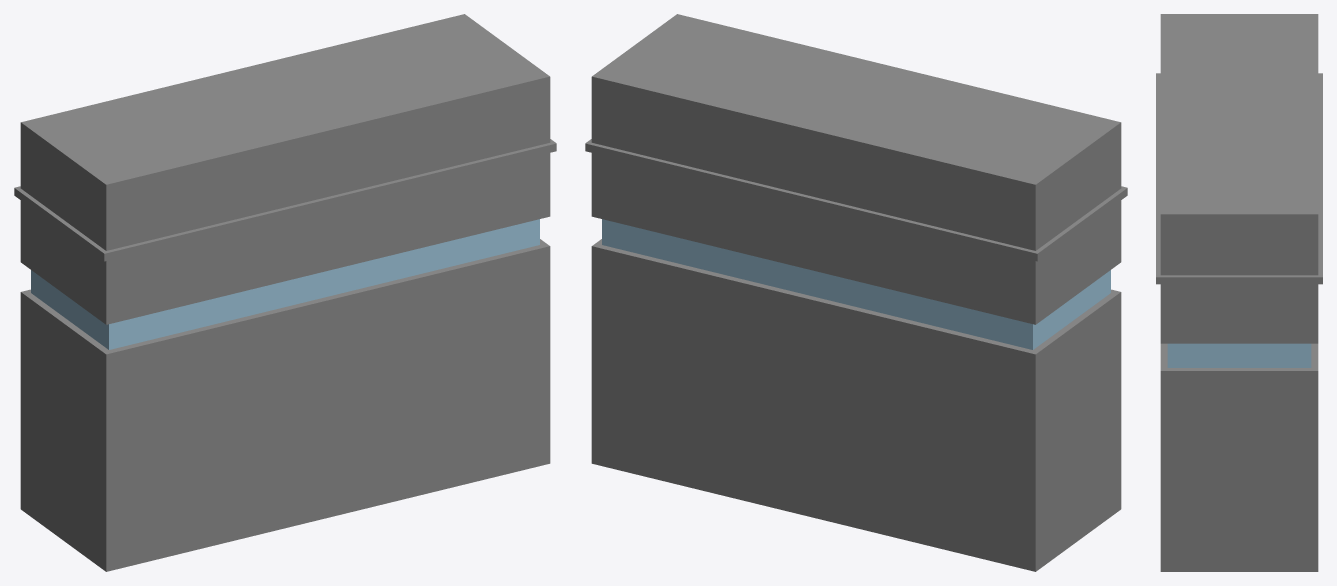
The model's file is Stage003.fbx.
3 renders of one model, left to right at view 1: azimuth 30°, elevation 25°; view 2: azimuth 150°, elevation 25°; view 3: azimuth 270°, elevation 25°, orthographic. The views are drawn at different scales.
Parts seen in each view (by area): view 1: Cube; view 2: Cube; view 3: Cube.
Boxes of the visible parts, x1=… form: Cube: x1=14, y1=14, x2=556, y2=571; Cube: x1=585, y1=14, x2=1127, y2=571; Cube: x1=1156, y1=14, x2=1322, y2=571.
Size of the model in its own units: 611 by 500 by 211.
